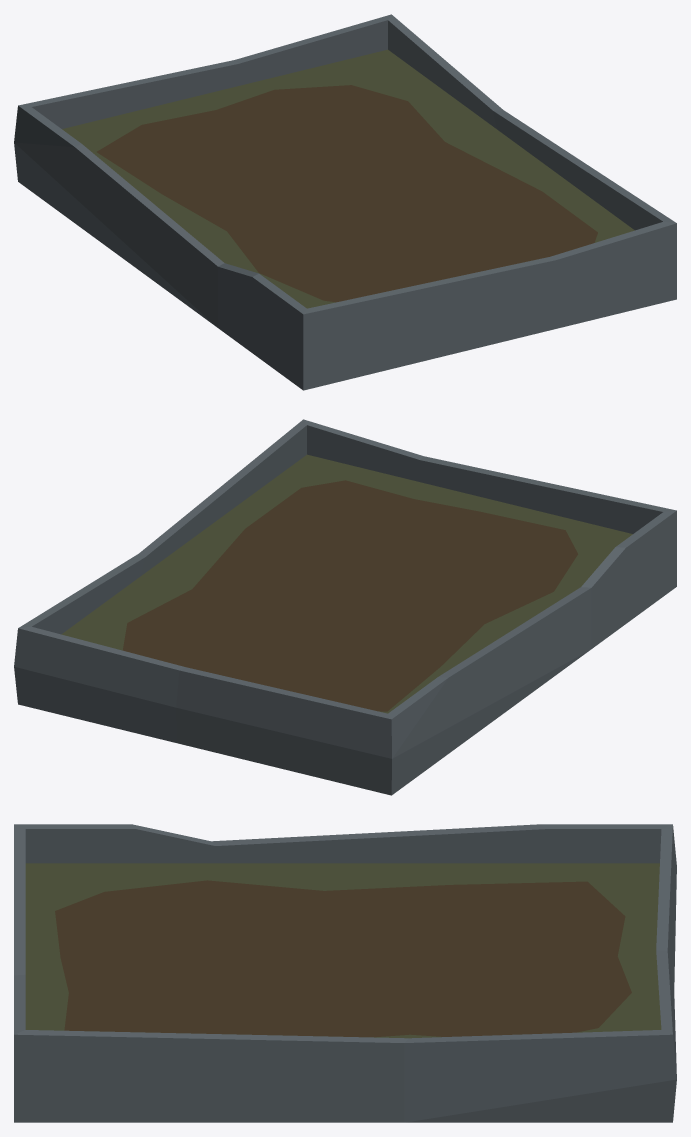
File: SM_Prop_Fuel_Tank_01_Base_01.fbx
The picture shows the model from 3 angles, top to bottom: view 1: azimuth 30°, elevation 25°; view 2: azimuth 150°, elevation 25°; view 3: azimuth 270°, elevation 25°; orthographic projection. The views are drawn at different scales.
Parts seen in each view (by area): view 1: SM_Prop_Fuel_Tank_01_Base_01; view 2: SM_Prop_Fuel_Tank_01_Base_01; view 3: SM_Prop_Fuel_Tank_01_Base_01.
Boxes of the visible parts, left/top/right/bottom form: SM_Prop_Fuel_Tank_01_Base_01: left=14, top=14, right=676, bottom=390; SM_Prop_Fuel_Tank_01_Base_01: left=14, top=419, right=676, bottom=795; SM_Prop_Fuel_Tank_01_Base_01: left=14, top=824, right=676, bottom=1122.
Bounding box in the file's own units: 185 × 35.67 × 244.
